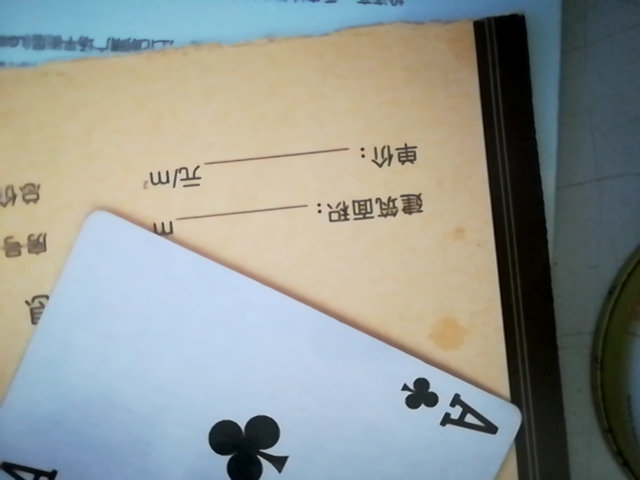mh a: (8, 210, 537, 477)
